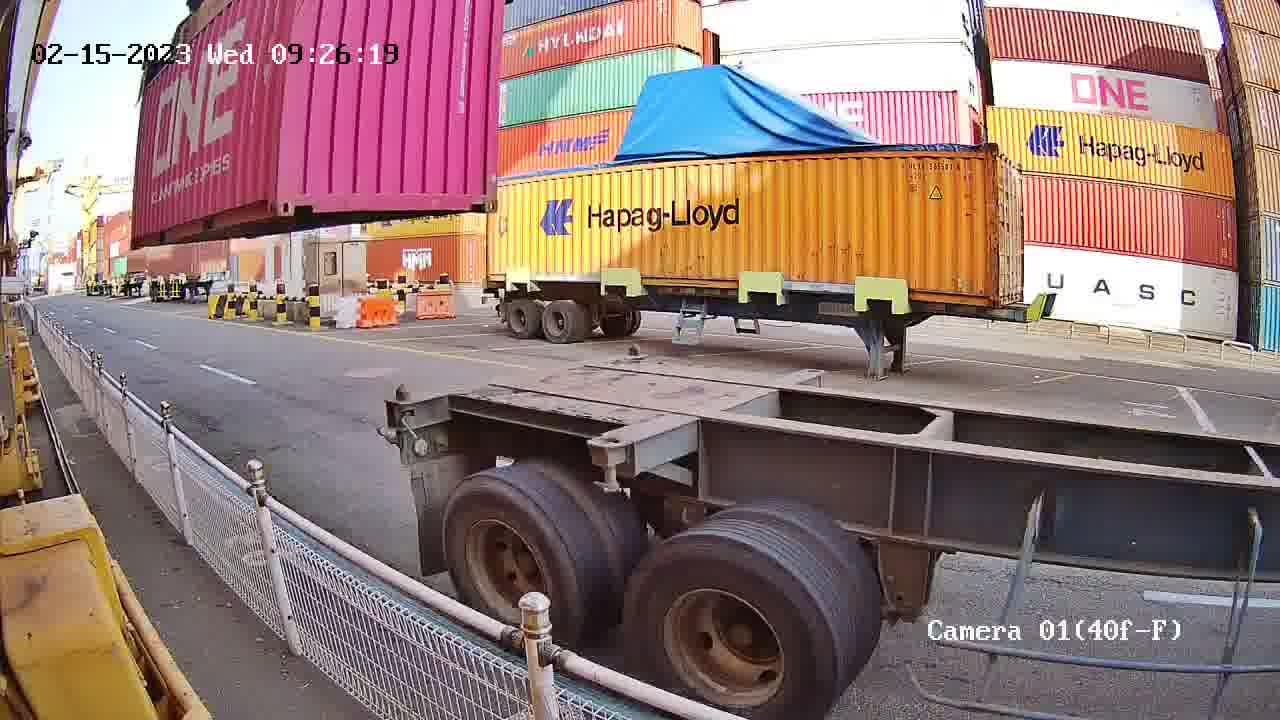Chassis: (396, 353, 649, 410)
Cone: (384, 380, 416, 437), (623, 343, 653, 357)
Hole_L: (278, 176, 320, 217)
Hole_R: (453, 163, 497, 210), (243, 178, 279, 222)
Tire: (618, 536, 832, 715), (445, 480, 581, 649)
